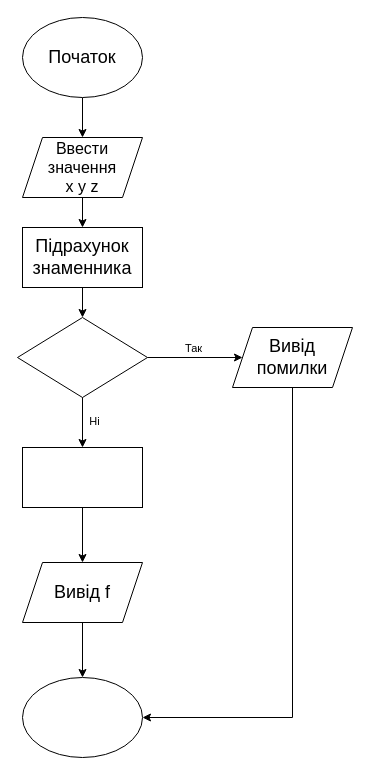
Image size: 370x775. Some labels were removed from this diagram. Each missing label, with the box of its shape:
abs(i) < 1E-6: (16, 316, 148, 398)
Кінець: (22, 676, 142, 758)
Підрахунок f: (22, 446, 142, 508)
